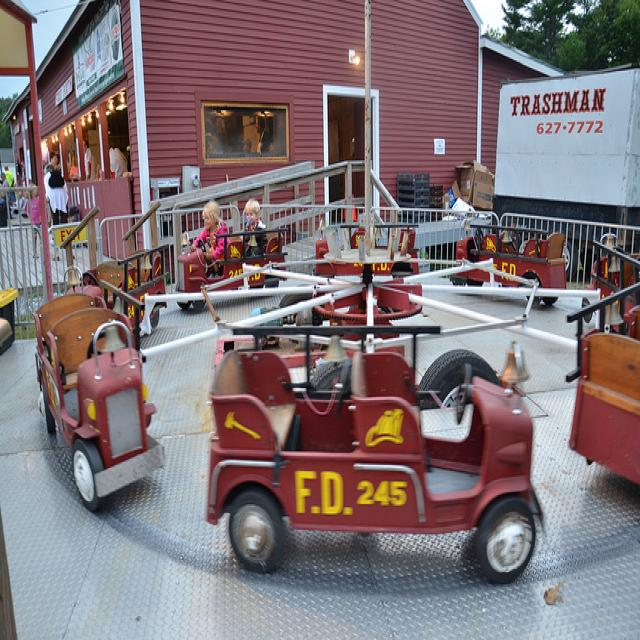Vehicle: (206, 329, 549, 586), (33, 287, 166, 514), (495, 69, 640, 234), (565, 233, 640, 392), (80, 240, 170, 338), (177, 228, 287, 294)
